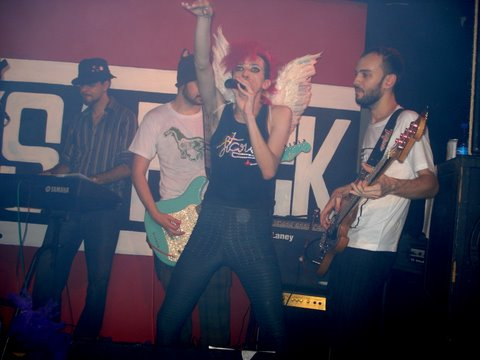person: (156, 1, 293, 360), (325, 49, 439, 360), (134, 52, 235, 350), (36, 60, 138, 336)
